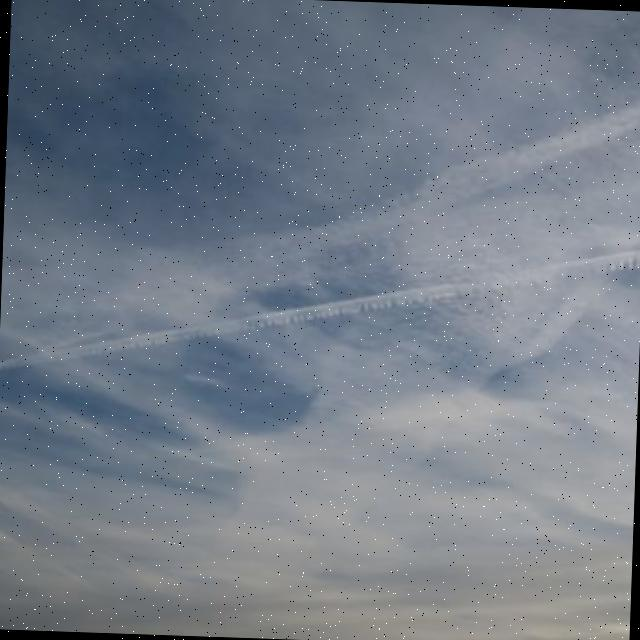Ct: (1, 12, 640, 588)
